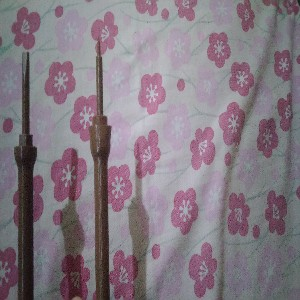obeng: (14, 51, 38, 300)
solder: (87, 35, 113, 300)
